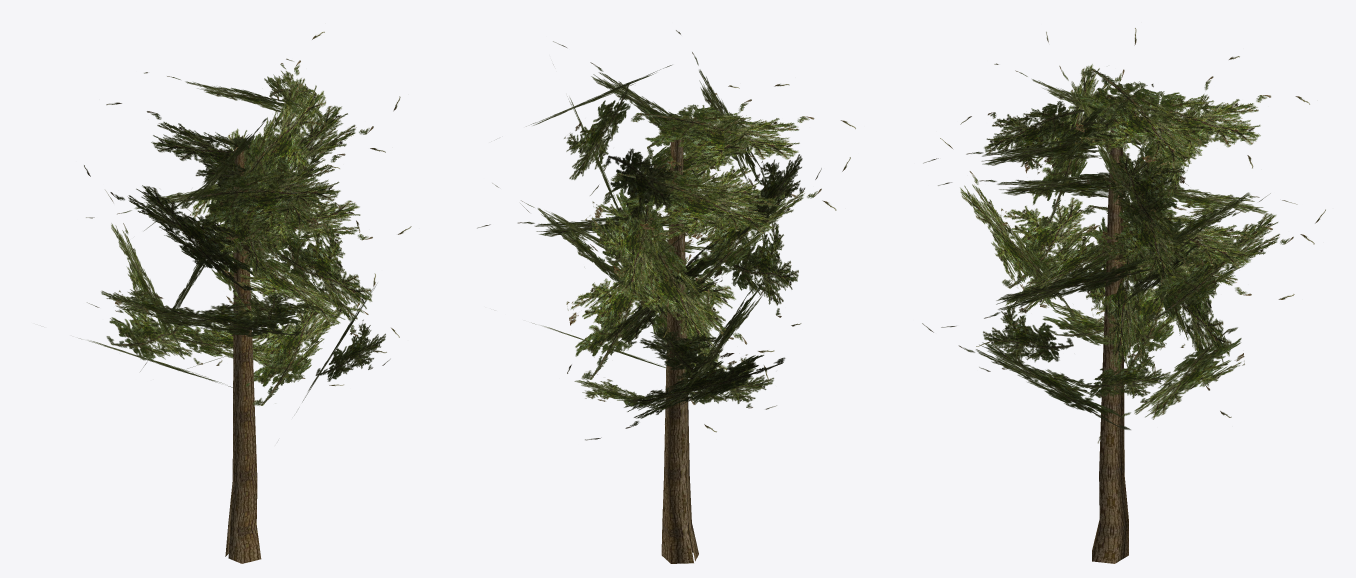
The model's file is tree_teste3.glb.
3 views of the same model, side by side, from view 1: azimuth 30°, elevation 25°; view 2: azimuth 150°, elevation 25°; view 3: azimuth 270°, elevation 25° (orthographic). The views are drawn at different scales.
Parts seen in each view (by area): view 1: Cone, Tree_Pine_T1_Tree_Pine_0.002; view 2: Cone, Tree_Pine_T1_Tree_Pine_0.002; view 3: Cone, Tree_Pine_T1_Tree_Pine_0.002.
Part boxes in pixels (x1=…): Cone: x1=79, y1=32, x2=411, y2=412; Tree_Pine_T1_Tree_Pine_0.002: x1=225, y1=147, x2=261, y2=563; Cone: x1=477, y1=30, x2=855, y2=440; Tree_Pine_T1_Tree_Pine_0.002: x1=661, y1=139, x2=698, y2=563; Cone: x1=922, y1=28, x2=1325, y2=443; Tree_Pine_T1_Tree_Pine_0.002: x1=1092, y1=127, x2=1128, y2=563.
Bounding box in the file's own units: 9.08 × 12.71 × 9.43.
Materials: 2 (2 with a texture image).
